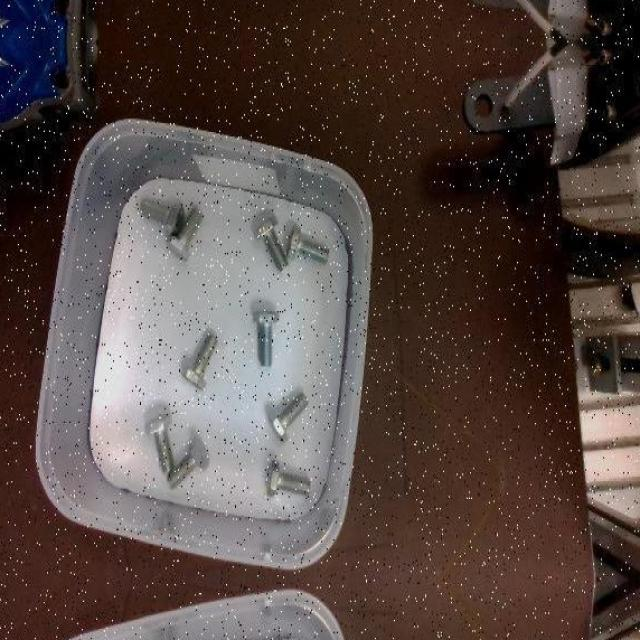screw: (167, 436, 209, 490), (181, 334, 218, 392), (267, 392, 309, 442), (254, 214, 290, 272), (166, 206, 203, 261), (144, 414, 174, 474), (288, 224, 330, 264), (141, 197, 186, 234), (266, 460, 311, 497), (253, 310, 280, 365)
